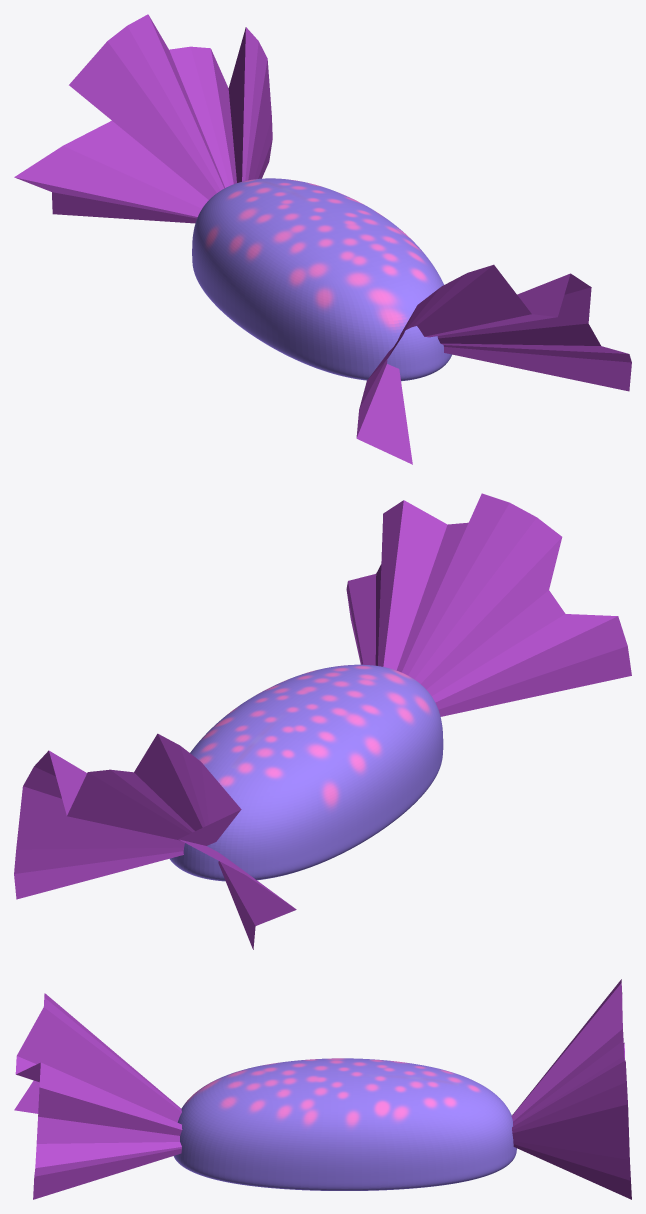
File: CandyPurple.fbx
3 views of the same model, one above another, from view 1: azimuth 30°, elevation 25°; view 2: azimuth 150°, elevation 25°; view 3: azimuth 270°, elevation 25° (orthographic). The views are drawn at different scales.
Parts seen in each view (by area): view 1: Cube, Cone.002, Cone.001; view 2: Cone.001, Cube, Cone.002; view 3: Cube, Cone.001, Cone.002.
Boxes of the visible parts, left/top/right/bottom form: Cube: left=192, top=178, right=451, bottom=381; Cone.002: left=14, top=14, right=272, bottom=223; Cone.001: left=356, top=264, right=631, bottom=464; Cone.001: left=346, top=493, right=631, bottom=716; Cube: left=169, top=664, right=443, bottom=881; Cone.002: left=14, top=733, right=296, bottom=949; Cube: left=173, top=1058, right=516, bottom=1190; Cone.001: left=14, top=993, right=182, bottom=1199; Cone.002: left=511, top=979, right=631, bottom=1199.
Bounding box in the file's own units: 111 × 70.1 × 234.
2 materials, 1 textured.
